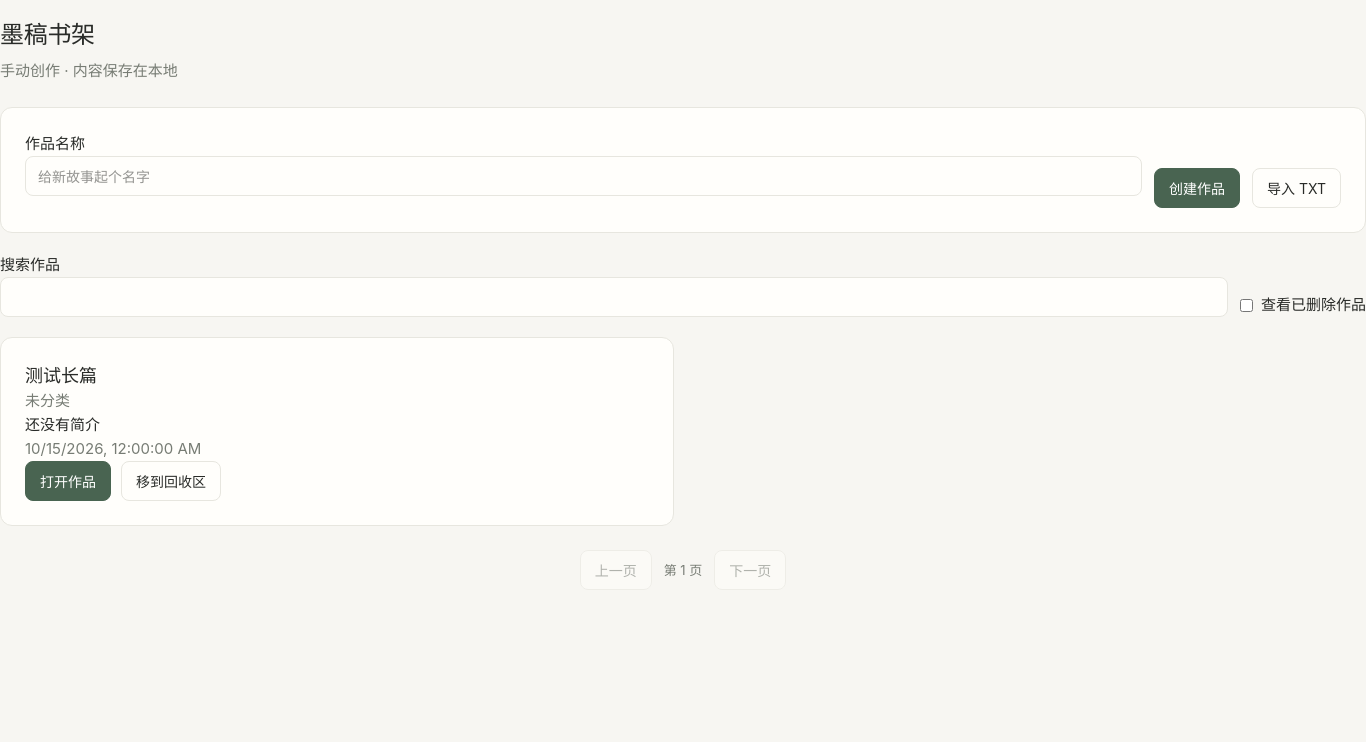
Test case: 切章先冲刷当前稿；保存失败时留在原章并保留编辑内容
The image size is (1366, 742).
Step 1. Click the button "打开作品" → (68,481), box [25,461,111,501]
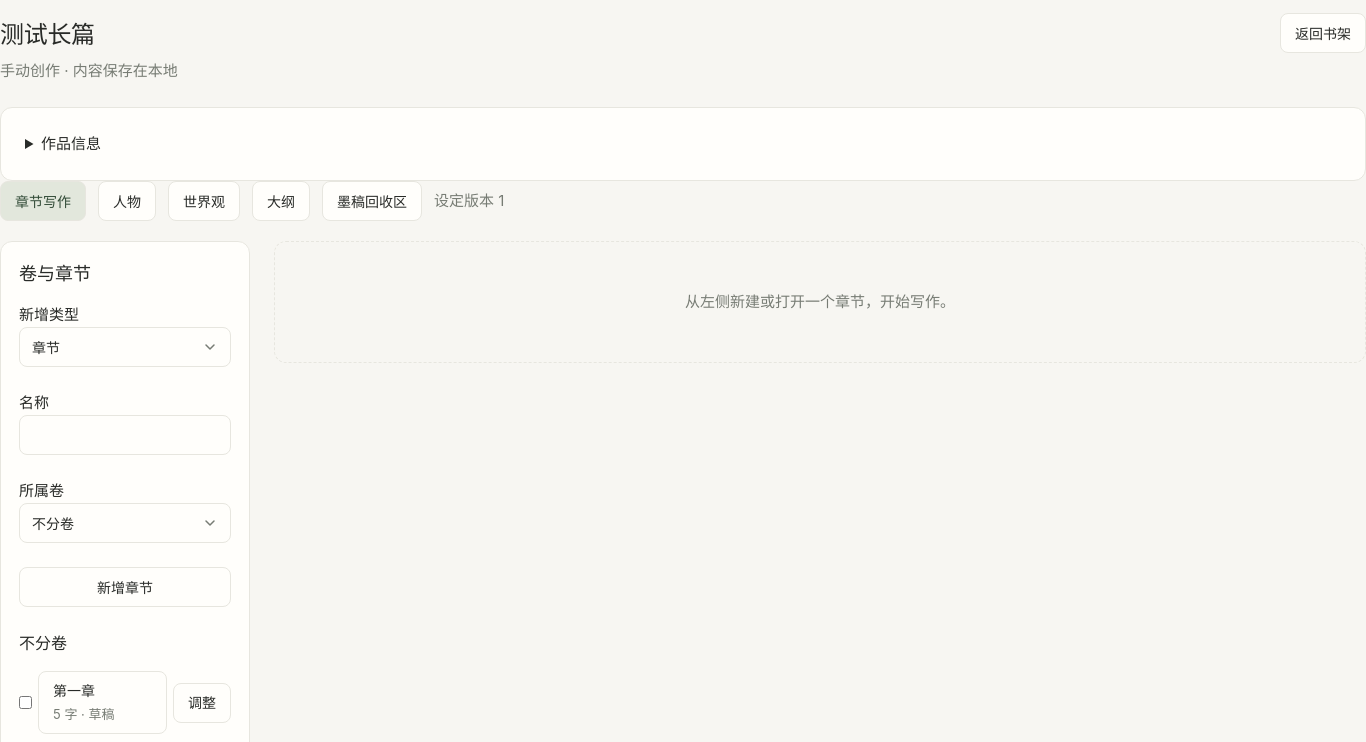
Step 2. Click the button "第一章 5 字 · 草稿" → (102,703), box [38,671,167,734]
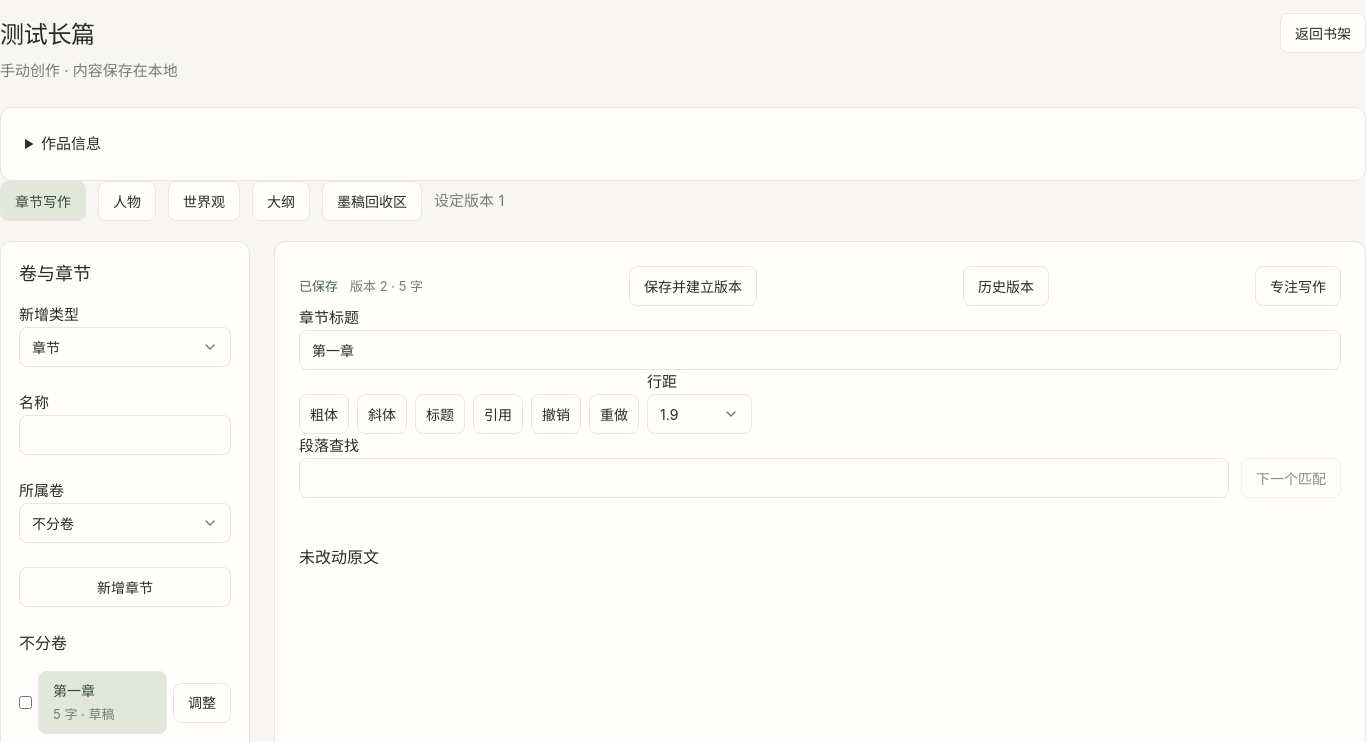
Step 3. Replace the text in the field labelled "章节标题" with "未保存的修改" → (820,350), box [299,330,1341,370]
(page scrolled)
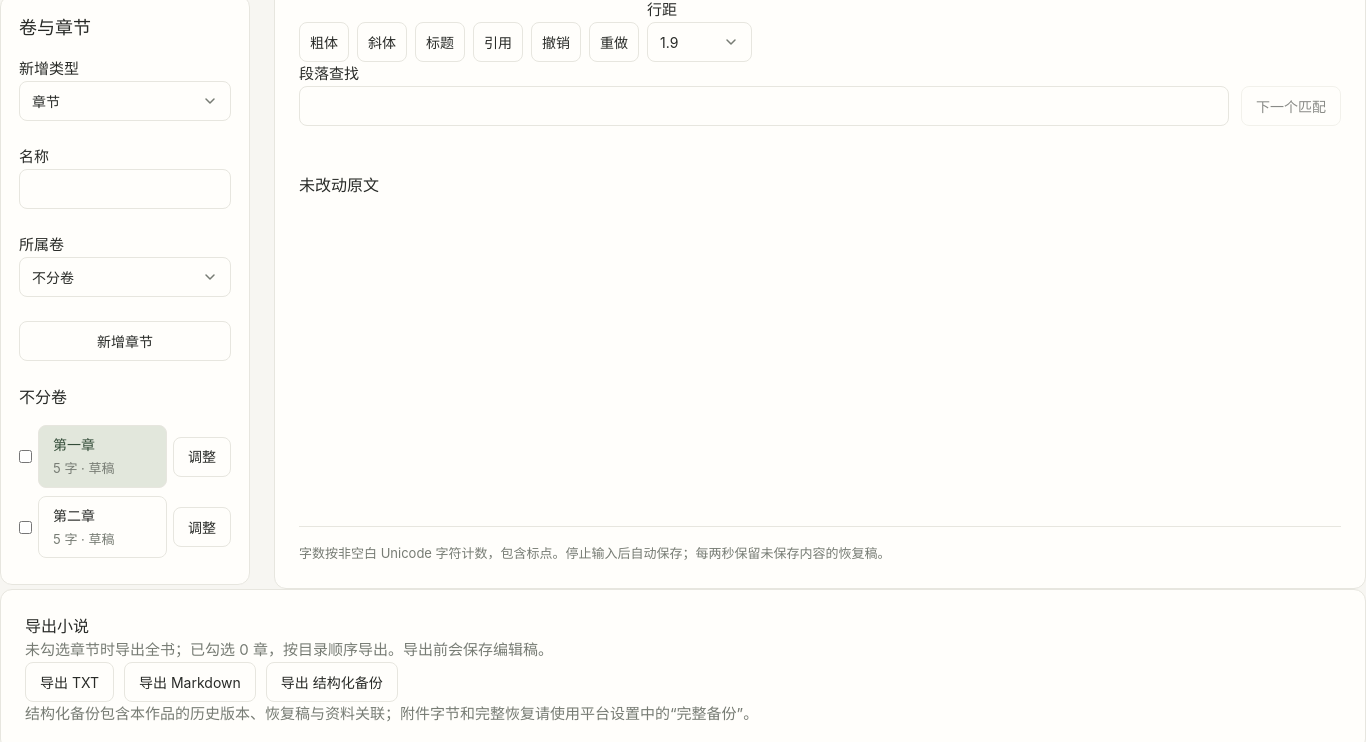
Step 4. Click the button "第二章 5 字 · 草稿" → (102,527), box [38,496,167,558]
(page scrolled)
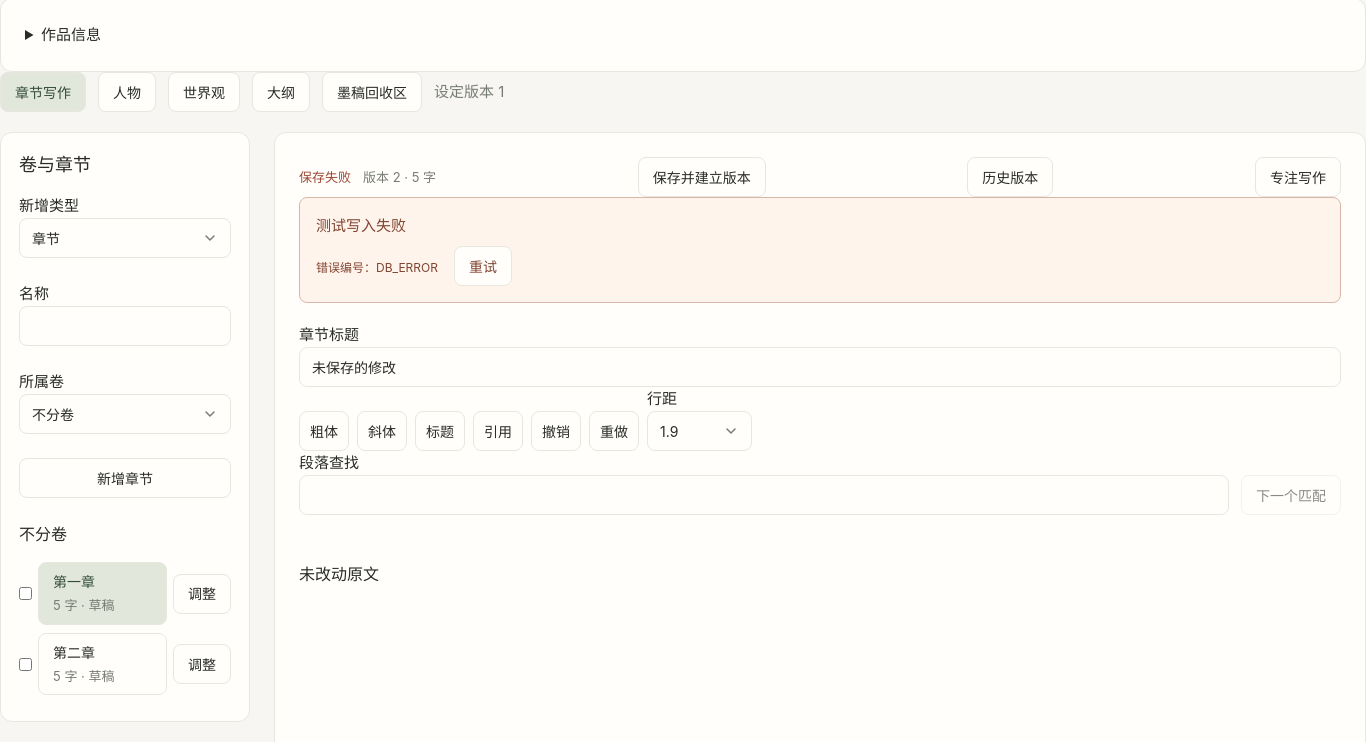
Now the text "测试写入失败" is shown, box [316,216,406,235]
